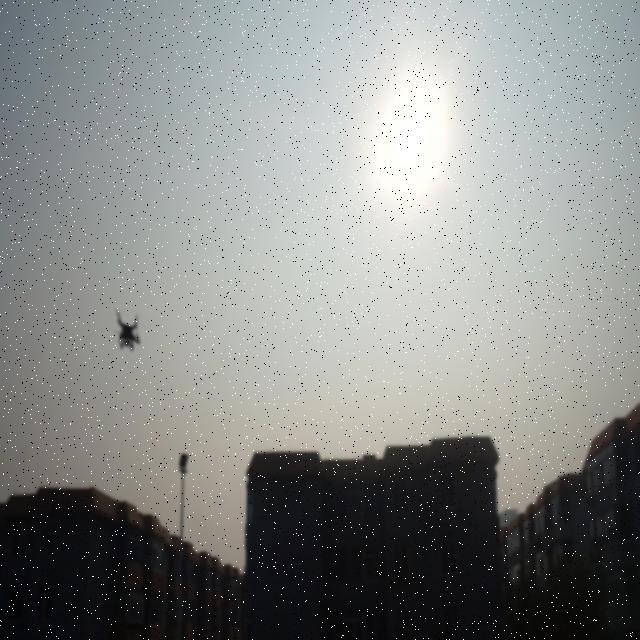UAV: (114, 308, 140, 352)
